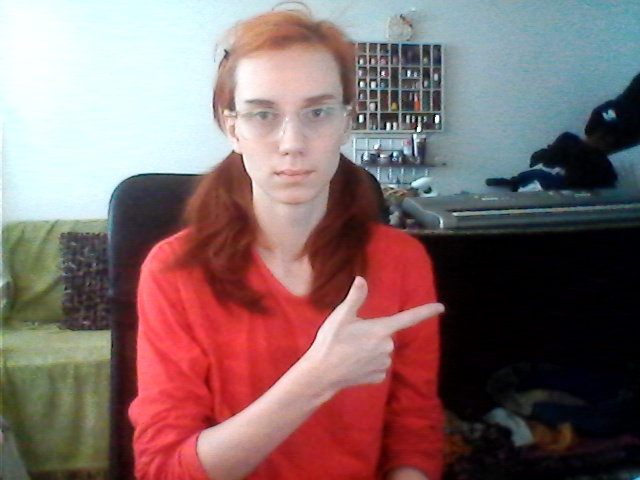dva_dve: (302, 274, 448, 391)
